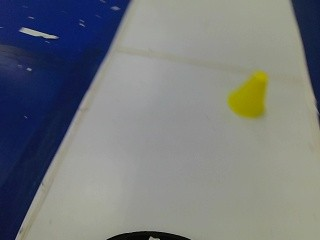cone: (227, 66, 269, 120)
